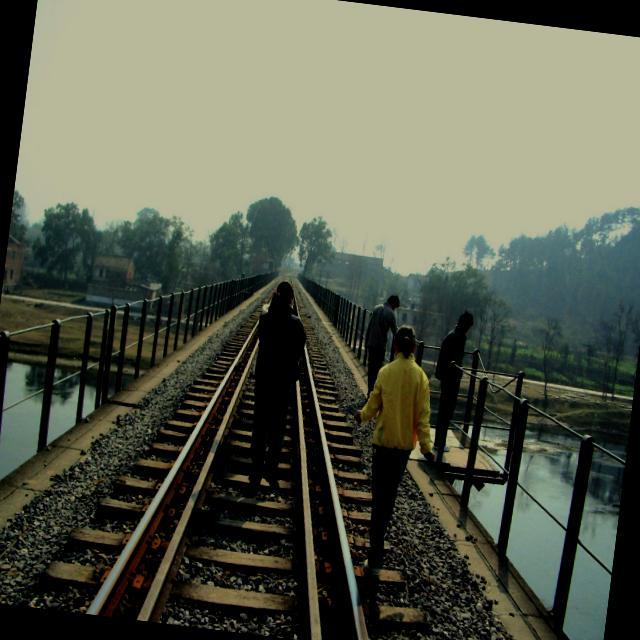danger: (353, 327, 440, 572), (248, 276, 310, 509)
rail: (30, 267, 418, 638)
